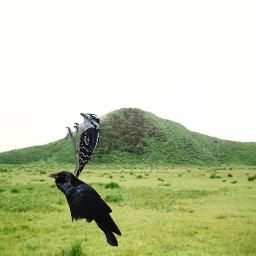Crow: (47, 171, 122, 247)
Woodpecker: (65, 112, 104, 185)
